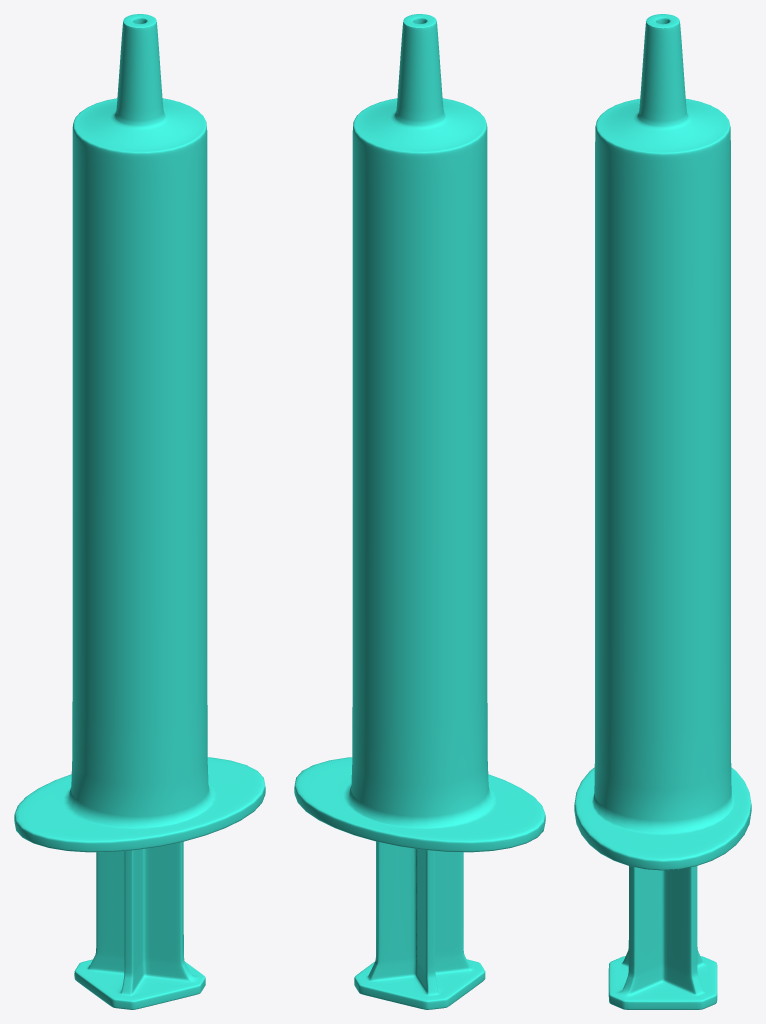
The model's file is spuit3.glb.
3 renders of one model, left to right at view 1: azimuth 30°, elevation 25°; view 2: azimuth 150°, elevation 25°; view 3: azimuth 270°, elevation 25°, orthographic.
Parts seen in each view (by area): view 1: spuit; view 2: spuit; view 3: spuit.
Boxes of the visible parts, x1,y1,x2,y2 form: spuit: (14, 14, 265, 1009); spuit: (294, 14, 545, 1009); spuit: (574, 14, 751, 1009).
Size of the model in its own units: 0.4737 by 1.85 by 0.3068.
